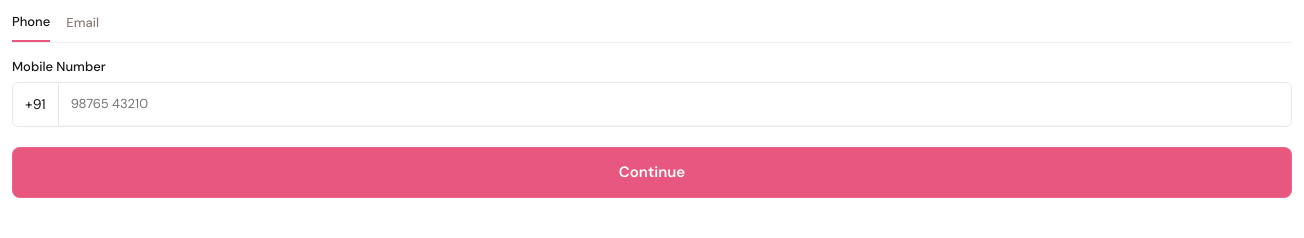
it: OtpForm email method › rejects an invalid email address before sending
Step 1. Click the button "Email" → click(83, 27), box [66,12,99,42]
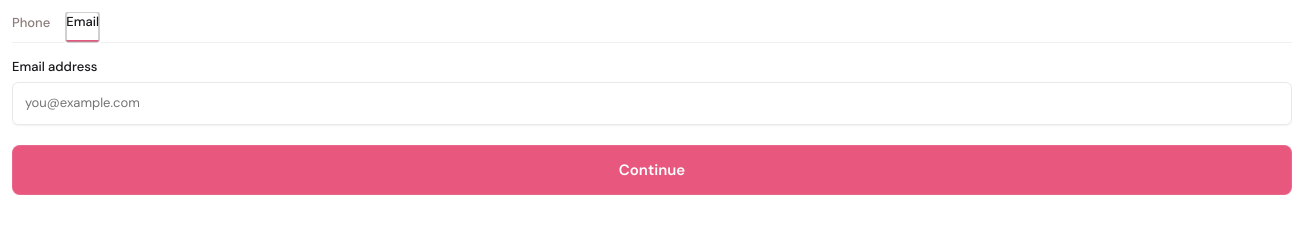
Step 2. Type "not-an-email" into the field labelled "Email address" → (652, 103), box [12,82,1292,125]
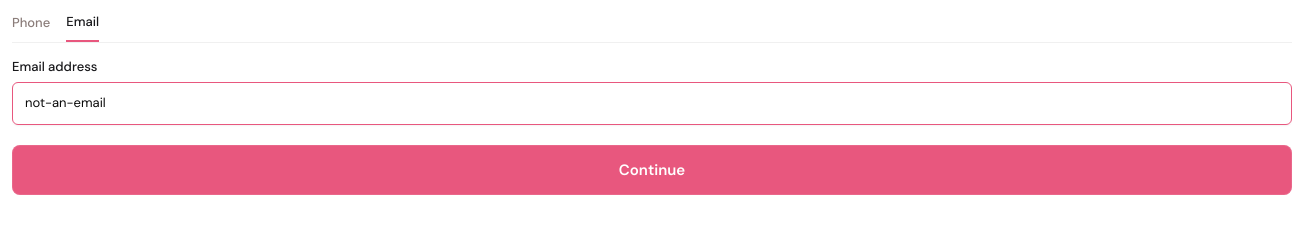
Step 3. Click the button "Continue" → click(652, 170), box [12,145,1292,195]
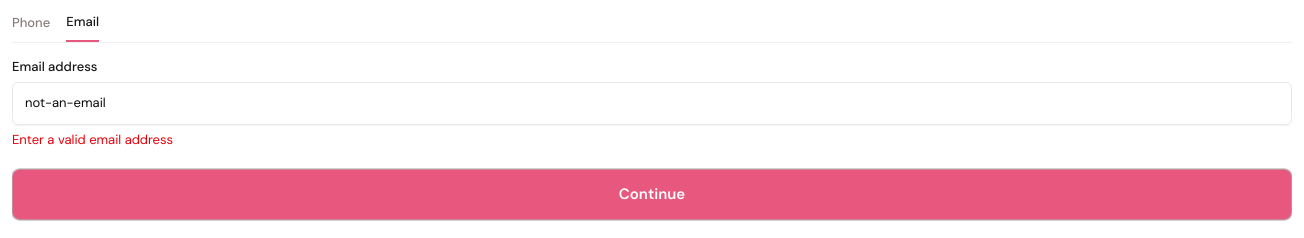
Expected: the text "Enter a valid email address" is shown, [12,131,173,148]
